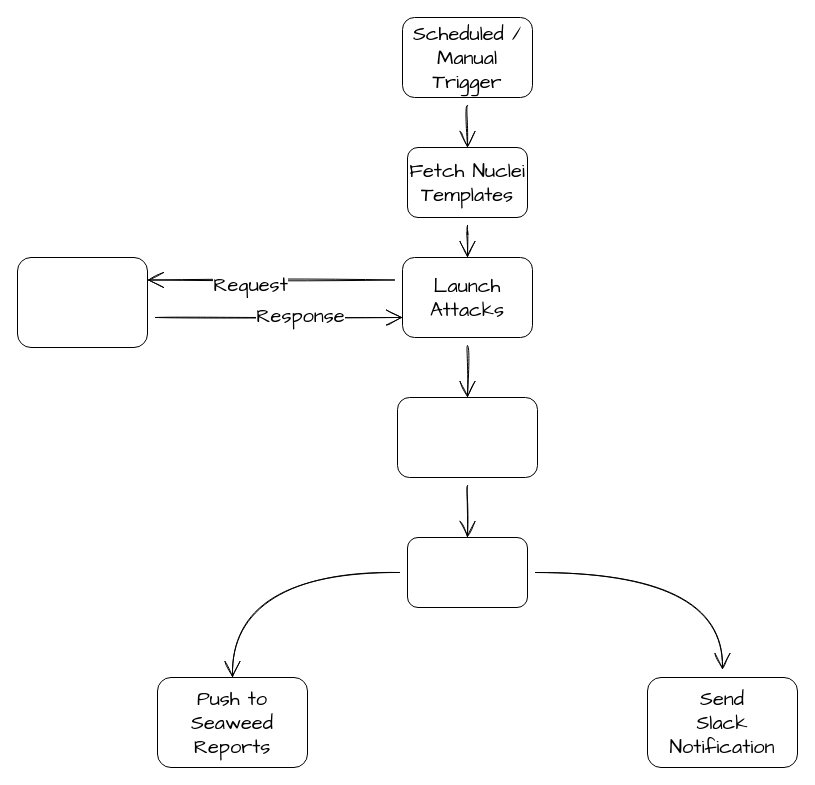
This 815x785 diagram has some shape labels left out. Here are the shapes that lost their labels. From the top down, the box of each, then its label:
(16, 256, 148, 348): Modsec-crs setup
(396, 396, 538, 478): Classify False Negatives
(406, 536, 528, 608): Generate report
